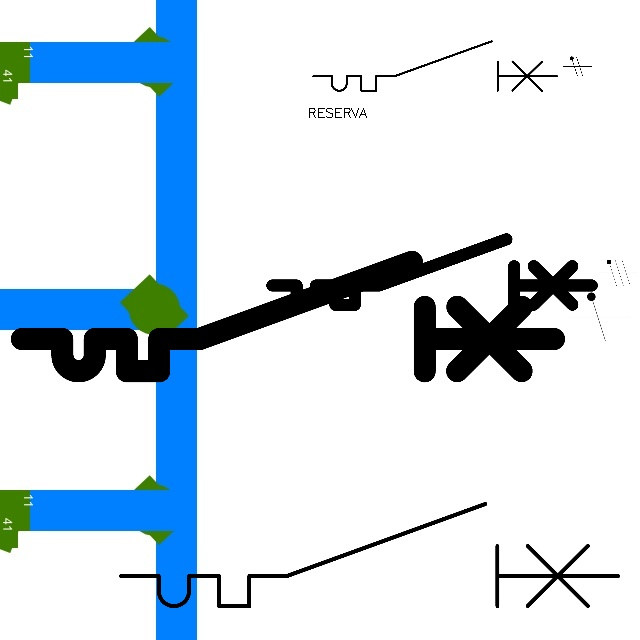interruptor_termomagnetico: (8, 248, 567, 385), (108, 491, 631, 619), (264, 231, 600, 313), (307, 35, 563, 97)
